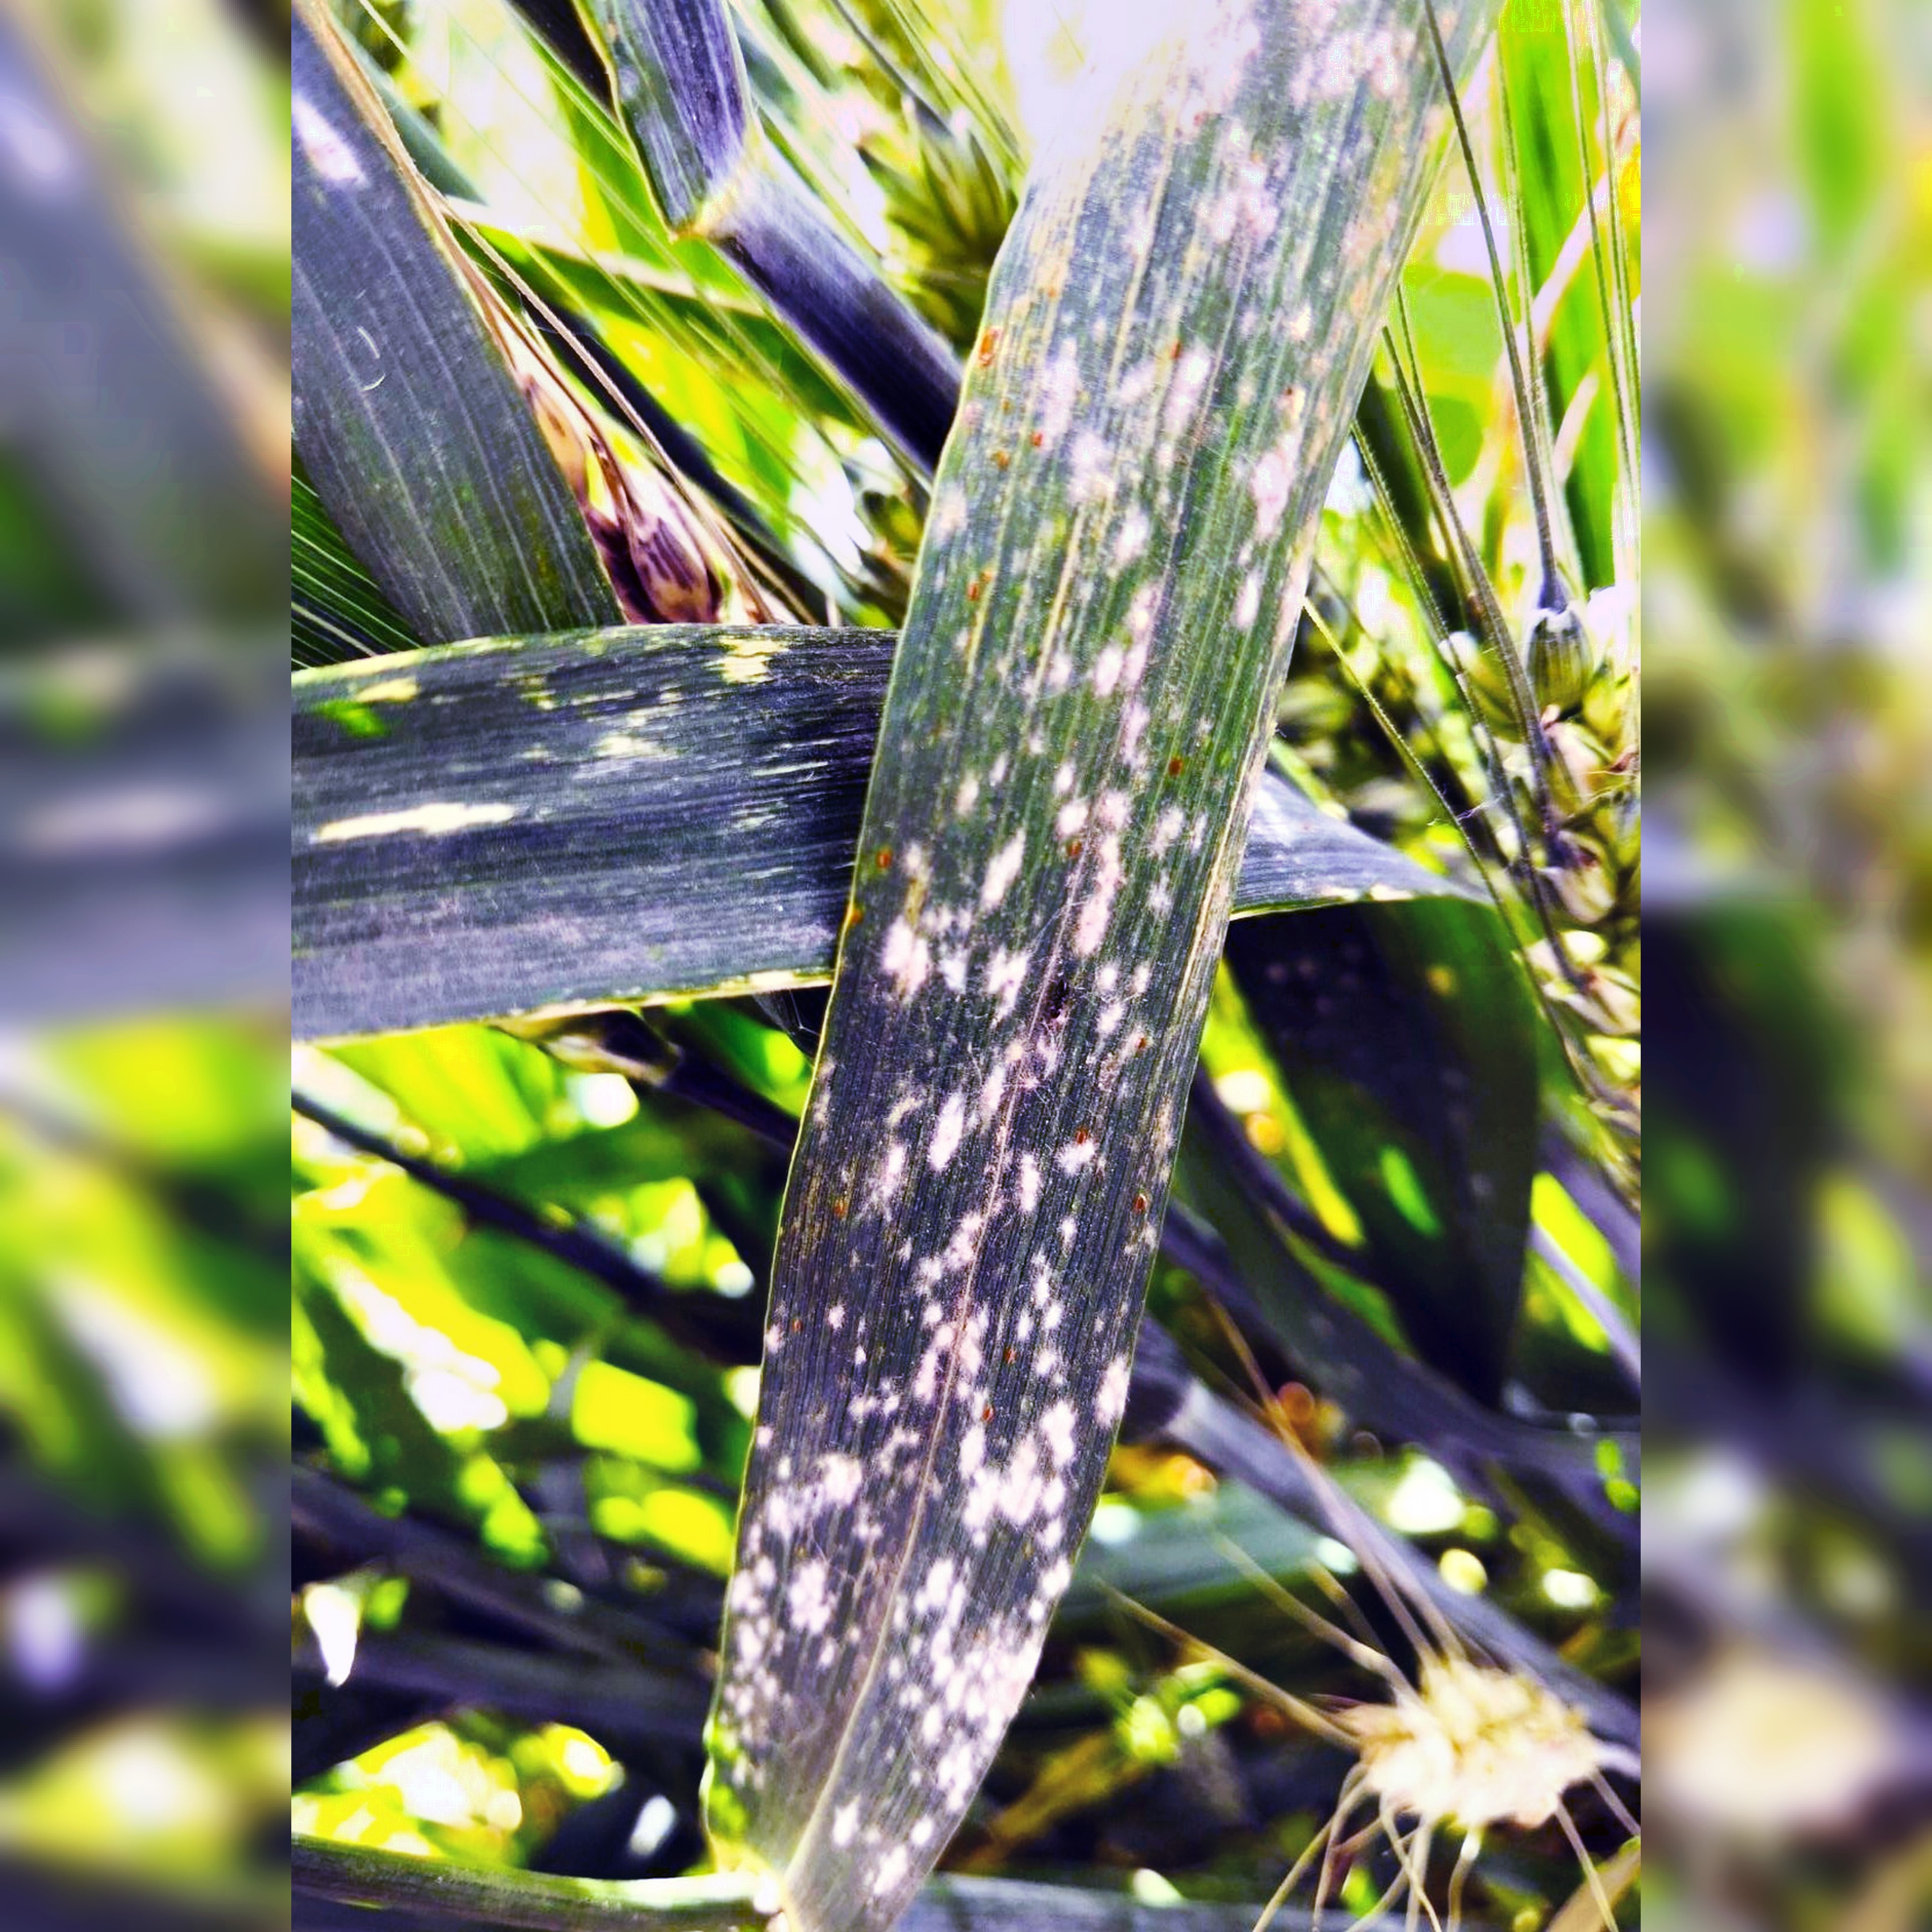Powdery Mildew: (720, 143, 1403, 1750)
